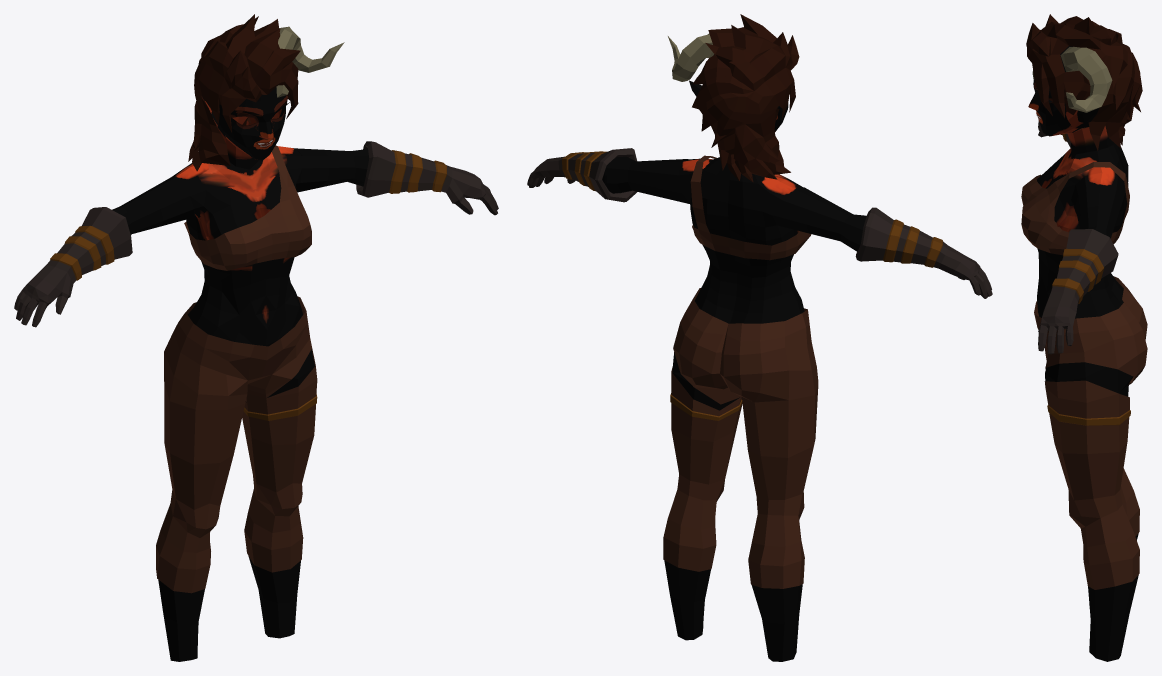
The model's file is Character.glb.
3 renders of one model, left to right at view 1: azimuth 30°, elevation 25°; view 2: azimuth 150°, elevation 25°; view 3: azimuth 270°, elevation 25°, orthographic. The views are drawn at different scales.
Parts seen in each view (by area): view 1: Panty.002, Body, Gloves, Hair.002, Shirt.001, arm.001, face.002, Horn.001; view 2: Panty.002, Body, Hair.002, Gloves, arm.001, Shirt.001, Horn.001; view 3: Panty.002, Body, Hair.002, Gloves, Shirt.001, Horn.001, arm.001, face.002, ears.
Part boxes in pixels (x1,y1,x2,y2): Panty.002: (156, 296, 317, 593); Body: (158, 116, 314, 661); Gloves: (14, 141, 498, 327); Hair.002: (188, 14, 300, 171); Shirt.001: (184, 145, 311, 270); arm.001: (112, 148, 369, 234); face.002: (202, 87, 287, 160); Horn.001: (276, 26, 344, 97); Panty.002: (663, 288, 818, 588); Body: (664, 157, 804, 661); Hair.002: (692, 14, 799, 182); Gloves: (527, 148, 992, 298); arm.001: (602, 156, 866, 251); Shirt.001: (690, 155, 811, 260); Horn.001: (668, 33, 713, 81); Panty.002: (1034, 276, 1147, 589); Body: (1036, 126, 1138, 661); Hair.002: (1026, 14, 1142, 150); Gloves: (1038, 120, 1118, 354); Shirt.001: (1021, 162, 1129, 255); Horn.001: (1032, 46, 1112, 112); arm.001: (1075, 186, 1122, 238); face.002: (1028, 46, 1089, 136); ears: (1077, 108, 1098, 122).
Bounding box in the file's own units: 2.15 × 2.75 × 0.5037.
7 materials, 2 textured.
